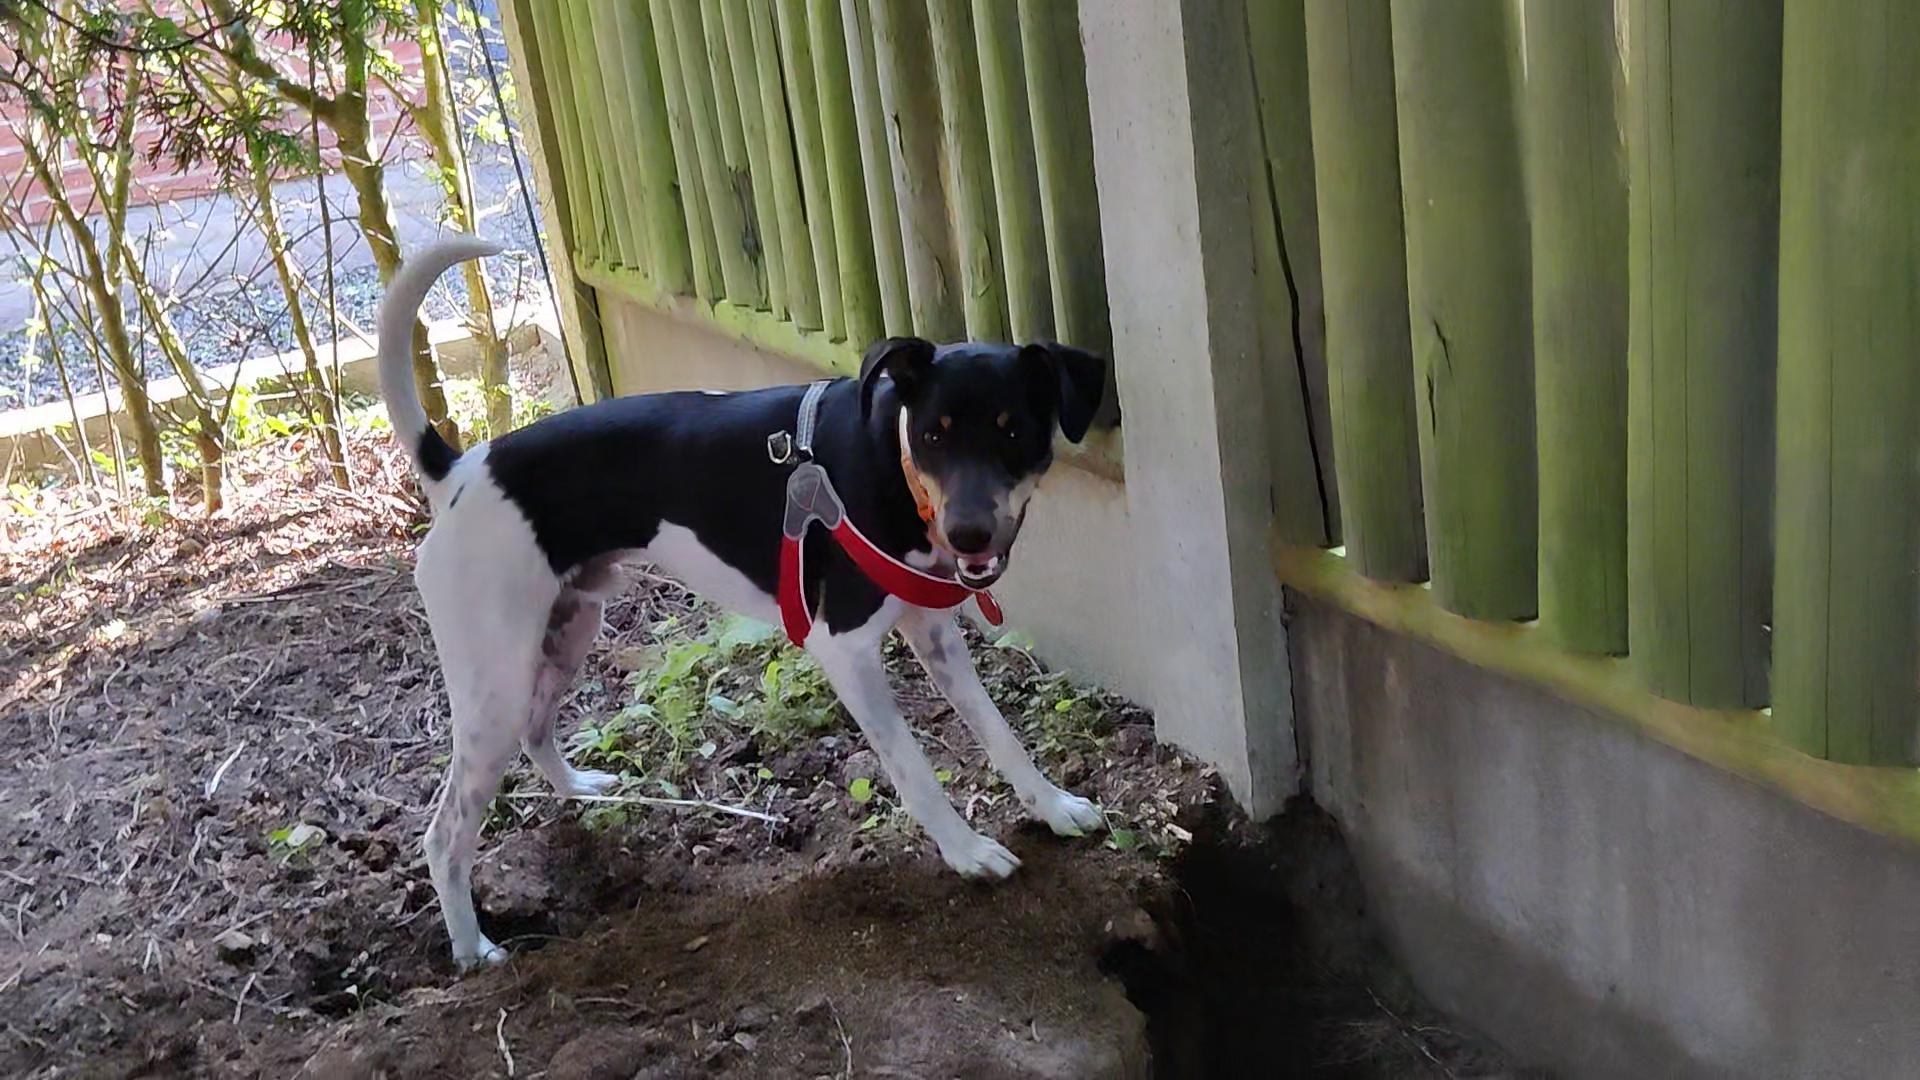Dog: (364, 214, 1135, 980)
